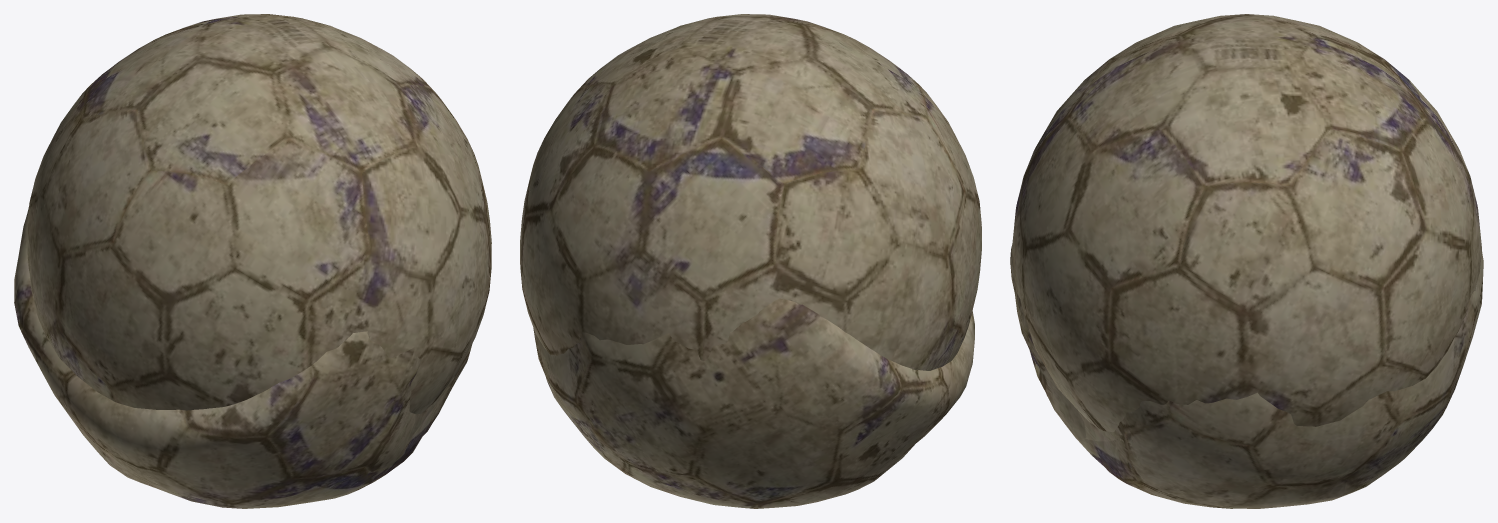
The model's file is football.glb.
3 views of the same model, side by side, from view 1: azimuth 30°, elevation 25°; view 2: azimuth 150°, elevation 25°; view 3: azimuth 270°, elevation 25° (orthographic).
Parts seen in each view (by area): view 1: football_inflated, football_deflated, football_deflated_lo; view 2: football_inflated, football_deflated; view 3: football_inflated, football_deflated, football_deflated_lo.
Part boxes in pixels (x1,y1,x2,y2): football_inflated: (27, 14, 491, 414); football_deflated: (14, 207, 472, 508); football_deflated_lo: (31, 291, 458, 460); football_inflated: (520, 14, 981, 370); football_deflated: (533, 298, 974, 508); football_inflated: (1012, 14, 1481, 431); football_deflated: (1010, 245, 1483, 508); football_deflated_lo: (1024, 338, 1369, 494).
Size of the model in its own units: 0.2203 by 0.2219 by 0.2222.
1 material, 1 textured.
